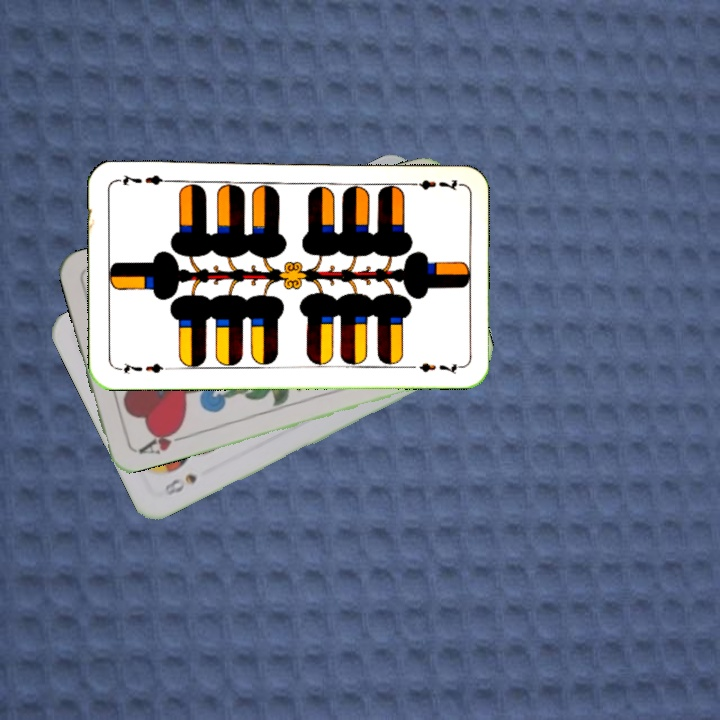E7: (113, 358, 173, 377), (403, 175, 462, 193)
HA: (134, 422, 190, 457)
S8: (160, 469, 200, 498)
